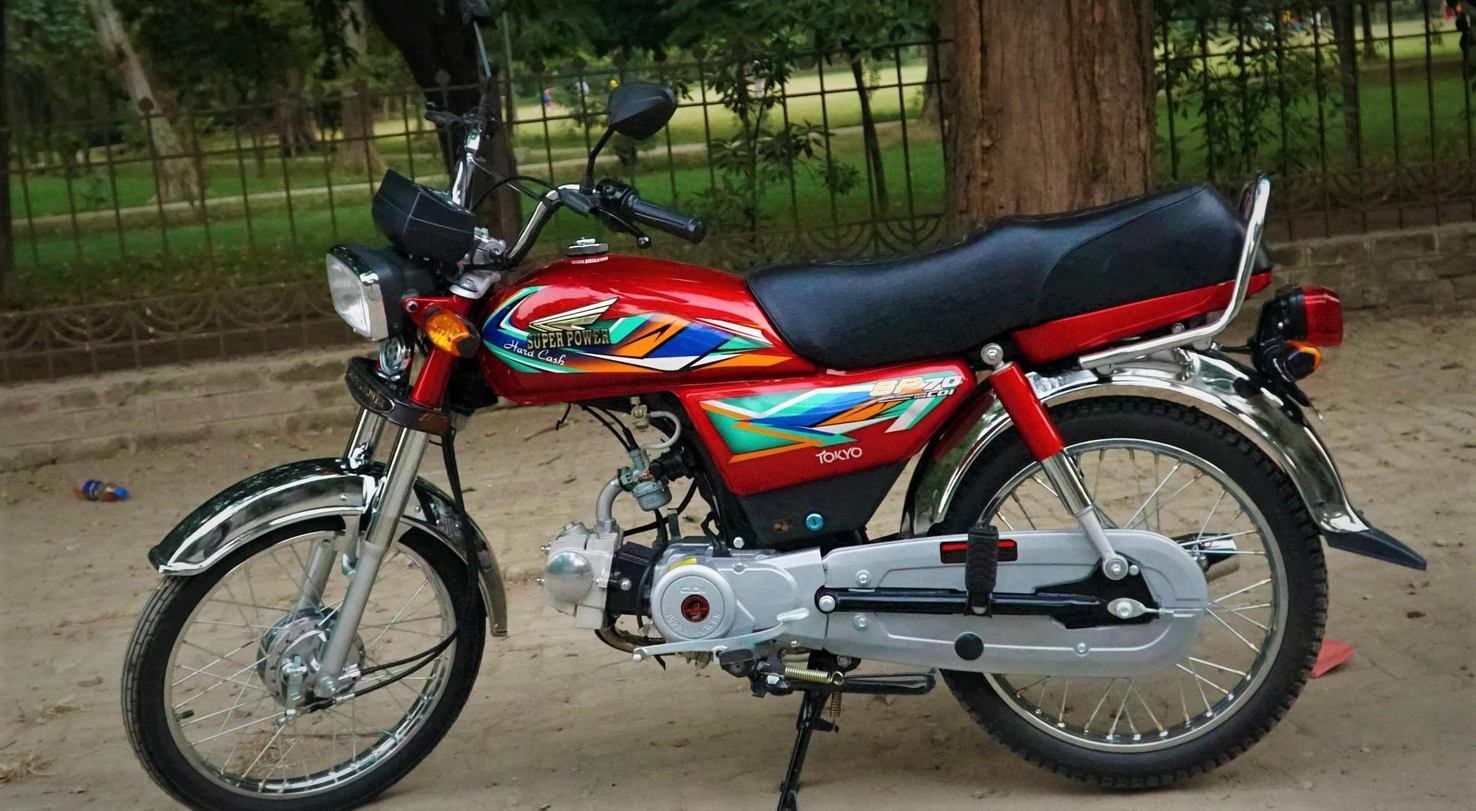motorcycle: (106, 60, 1444, 811)
